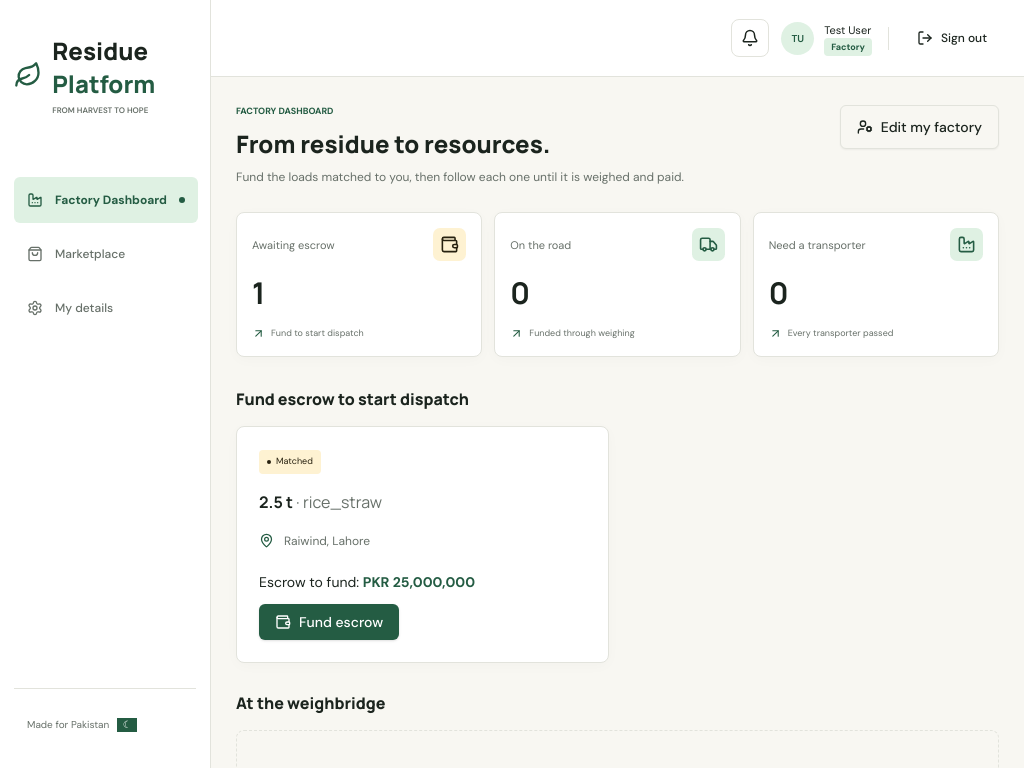
it: factory: fund escrow › a refusal is shown and the dialog stays open to try again
Click the button "Fund escrow" at {"x": 329, "y": 622}, box [259,604,399,640]
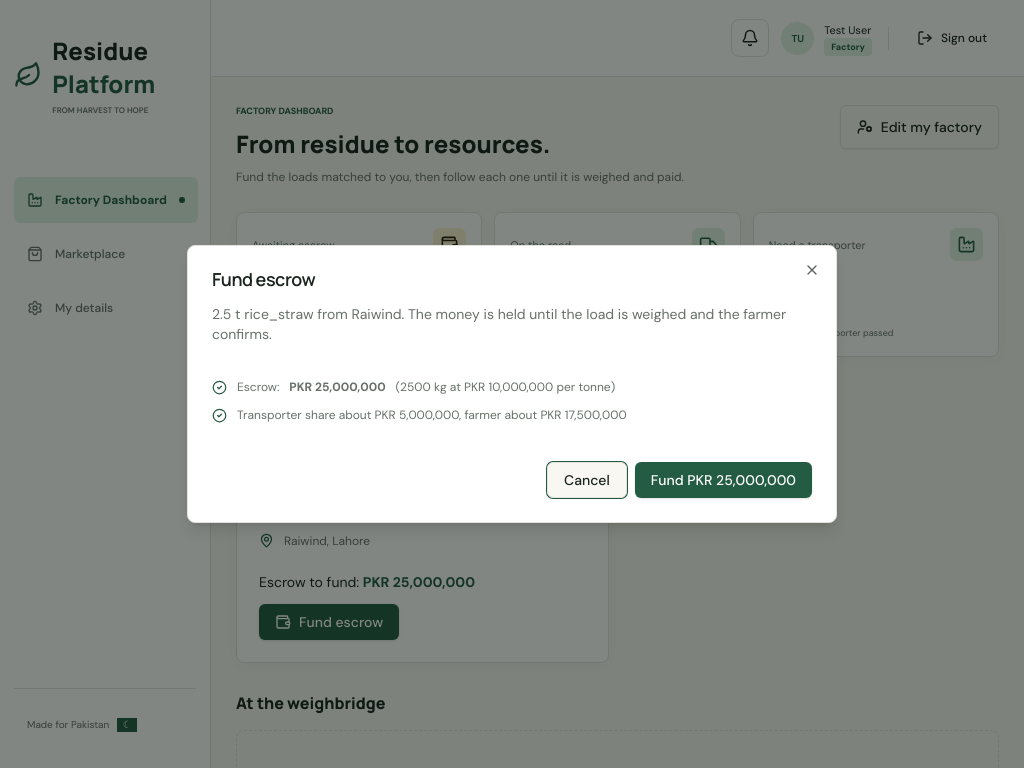
Click the button "Fund PKR 25,000,000" at {"x": 723, "y": 480}, box [635,462,812,498]
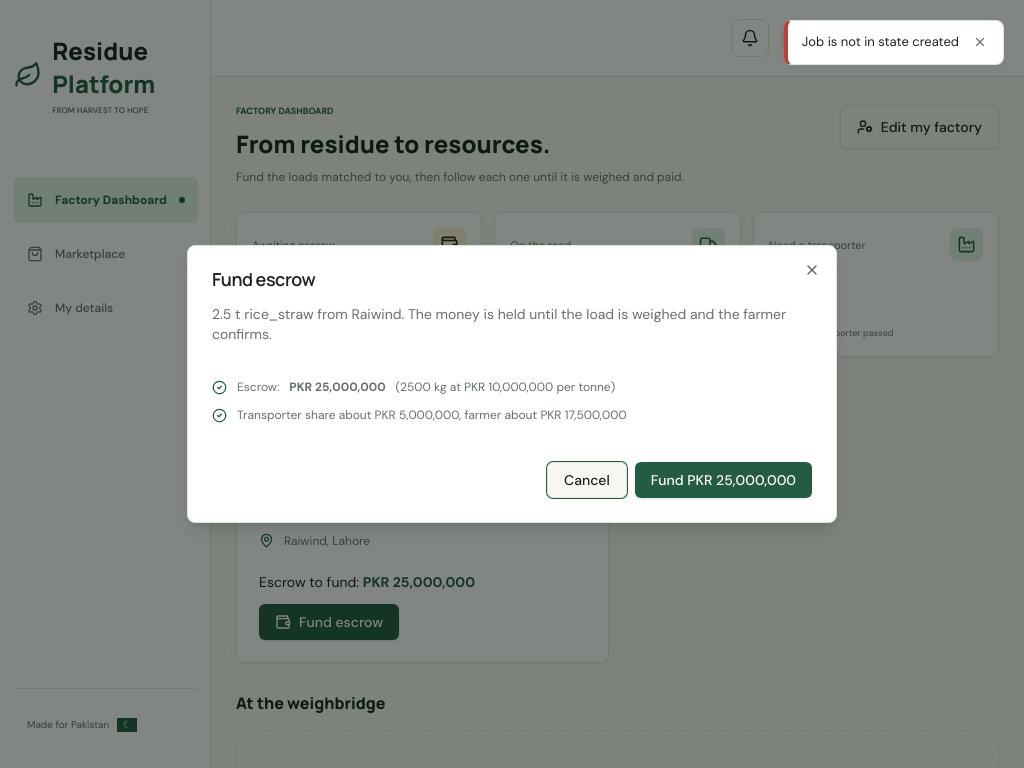
Now the dialog is shown, box [187,245,837,523]
Now the message reads "Job is not in state created", box [802,33,959,50]
